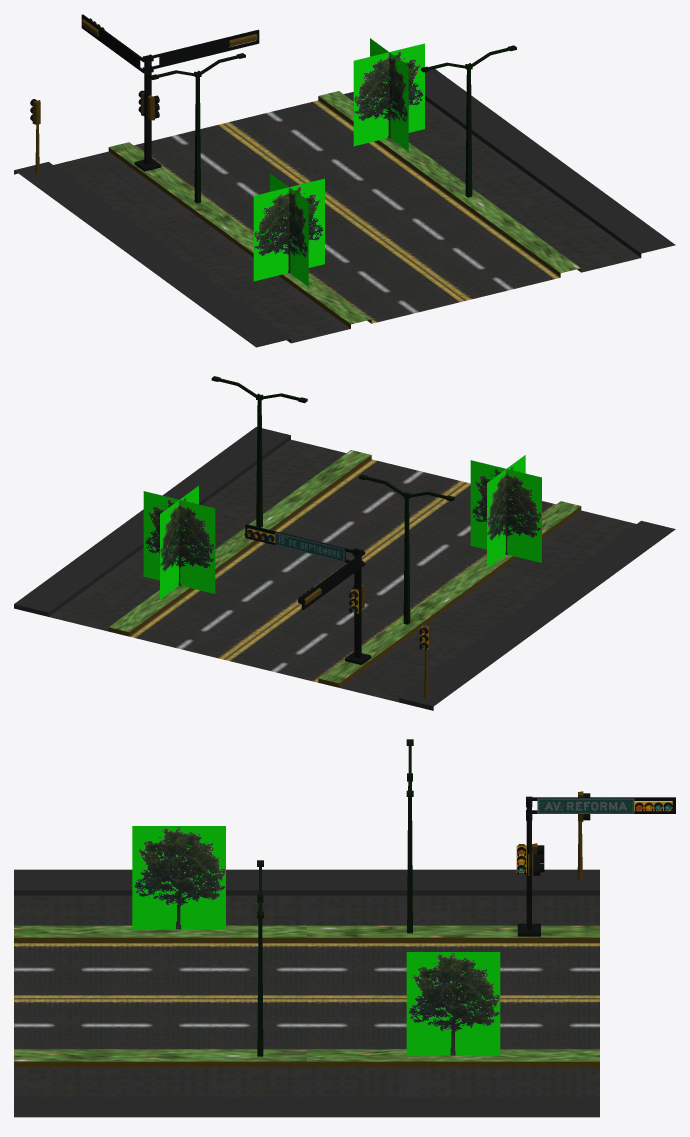
The model's file is 03_prekfc.obj.
The picture shows the model from 3 angles, top to bottom: view 1: azimuth 30°, elevation 25°; view 2: azimuth 150°, elevation 25°; view 3: azimuth 270°, elevation 25°; orthographic projection. The views are drawn at different scales.
Visible parts, largest first — view 1: 03_prekfc_Plane.010; view 2: 03_prekfc_Plane.010; view 3: 03_prekfc_Plane.010.
Boxes of the visible parts, <box> form: 03_prekfc_Plane.010: <box>14,14,675,347</box>; 03_prekfc_Plane.010: <box>14,376,675,710</box>; 03_prekfc_Plane.010: <box>14,739,675,1117</box>.
Bounding box in the file's own units: 1.6 × 0.5207 × 1.81.
